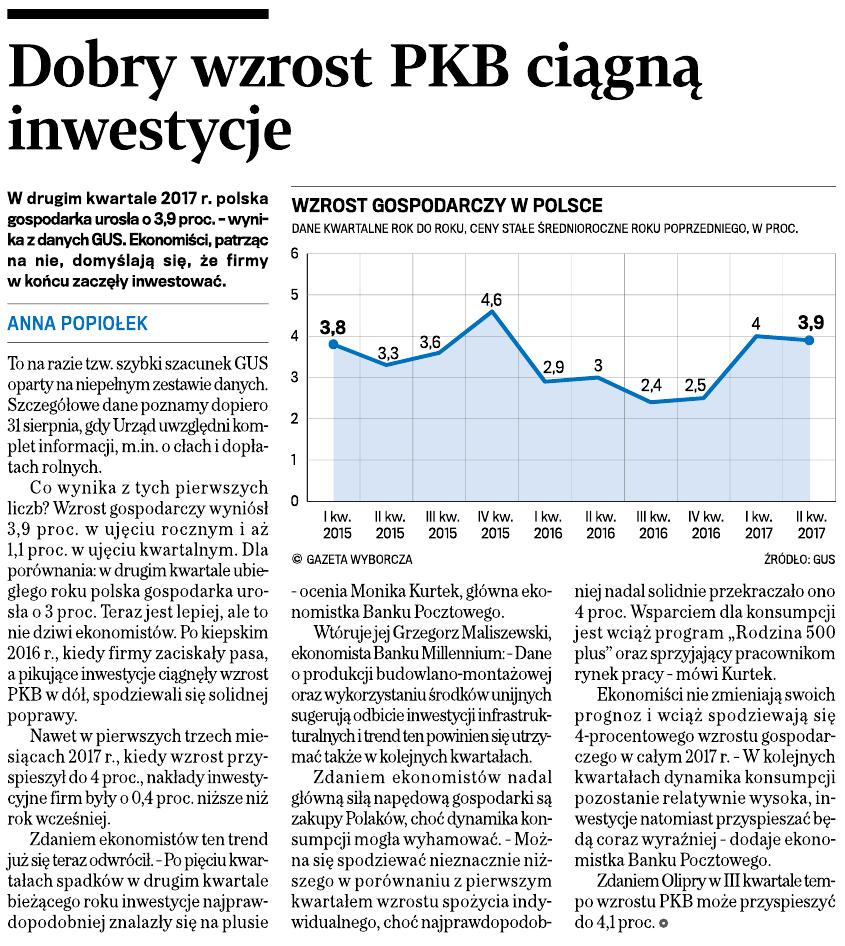author: (3, 306, 154, 339)
body: (3, 349, 281, 938), (286, 575, 560, 939), (568, 574, 843, 935)
caption: (288, 190, 804, 240)
image: (282, 239, 840, 548)
lead: (5, 181, 278, 298)
title: (4, 29, 743, 171)
